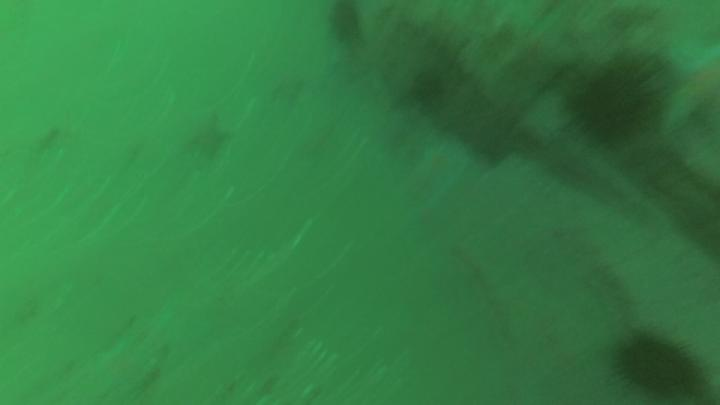echinus: (569, 52, 661, 152), (611, 329, 711, 405), (329, 2, 362, 42), (412, 69, 443, 110)
